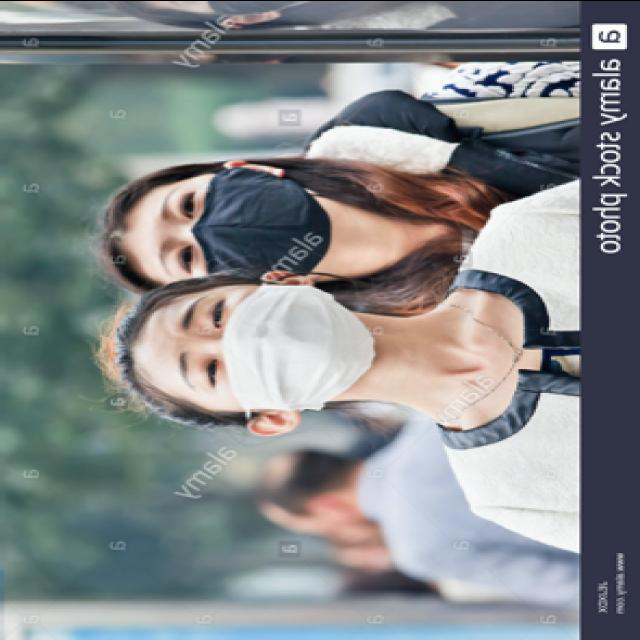mask: (170, 280, 378, 413), (150, 166, 334, 286)
